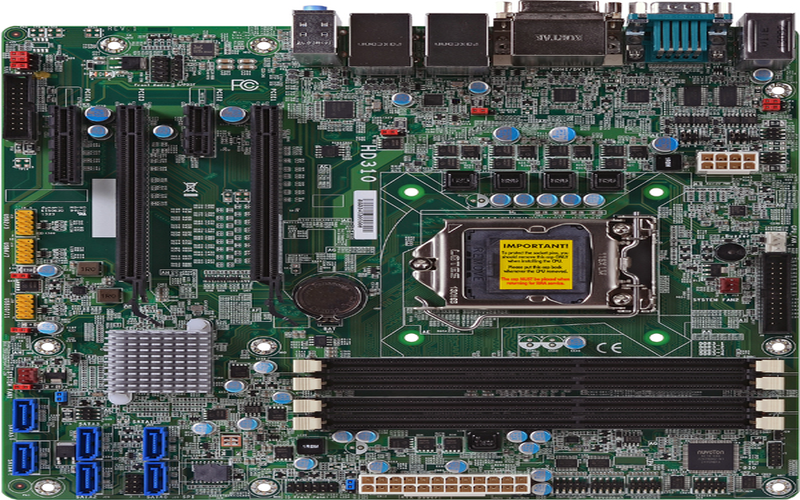Cirtuit-Board: (0, 19, 800, 500)
